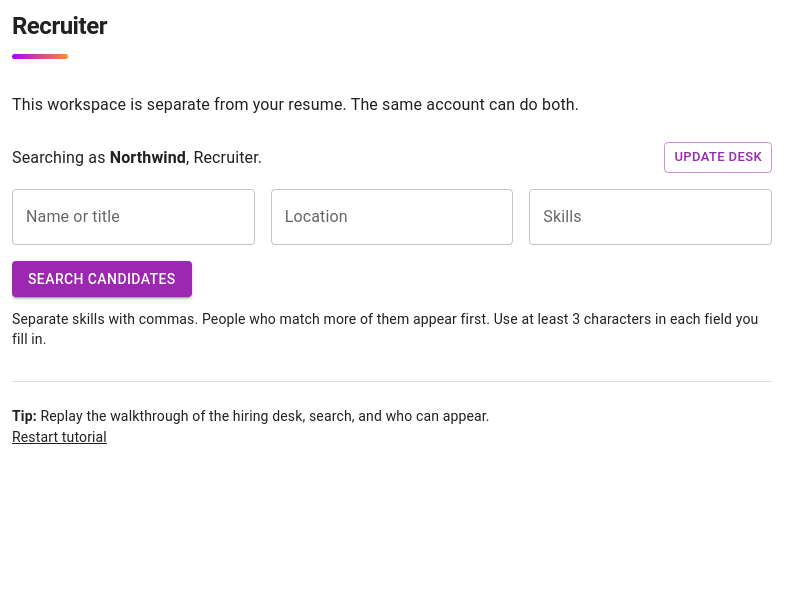
Test: RecruiterWorkspace › highlights the skill that matched the search
Type "math" into the field labelled "Skills" at (651, 217), box [529,189,772,245]
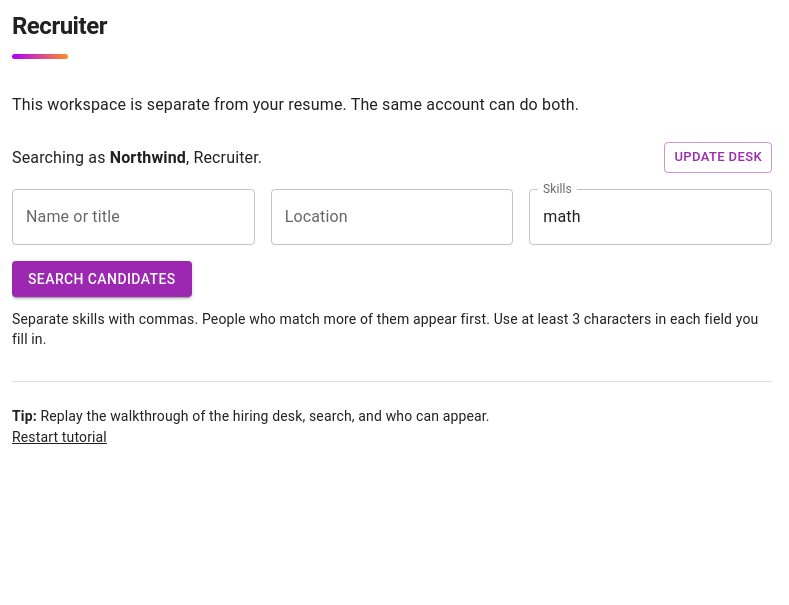
Click the button "Search candidates" at (102, 279), box [12,261,192,298]
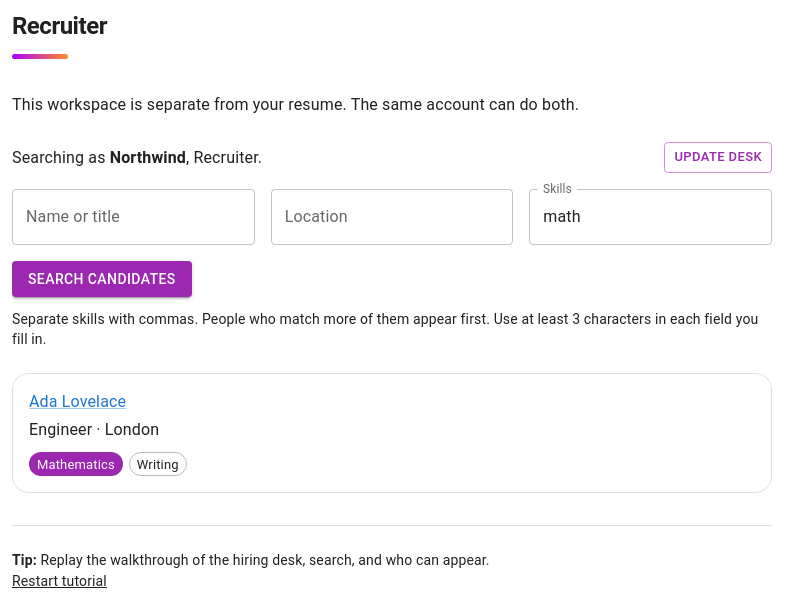
Check: the text "ematics" is shown, box [67,457,115,472]
